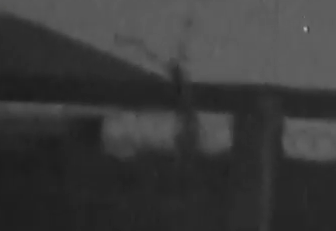Target: (303, 28, 306, 32)
